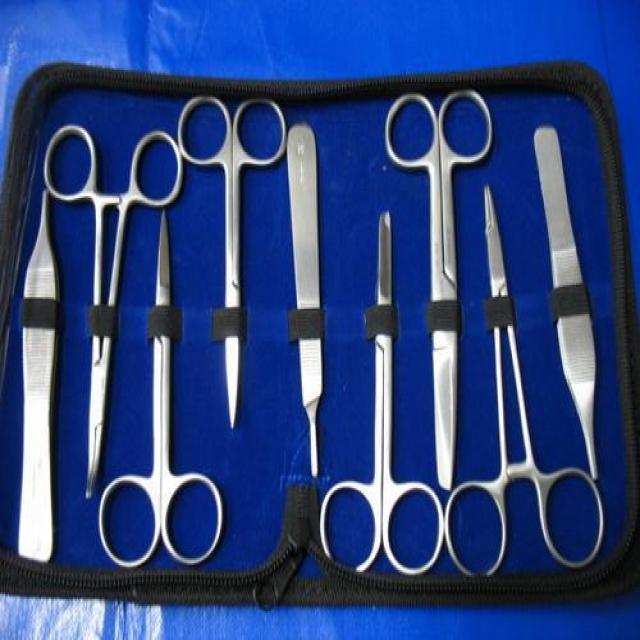Forceps: (530, 119, 600, 478), (14, 186, 63, 565)
Hemostat: (442, 179, 606, 579), (40, 118, 184, 504)
Iris: (96, 206, 226, 574), (174, 94, 289, 434)
Mayo_metz: (318, 206, 446, 577), (382, 86, 496, 492)
Scalpel: (284, 118, 328, 482)
